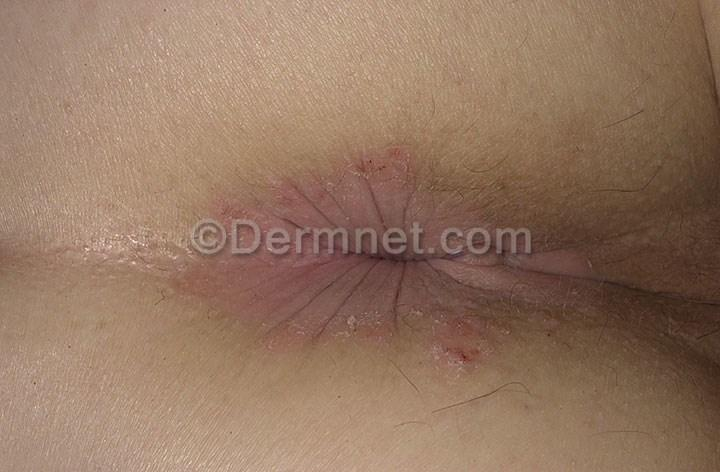Eczema: (361, 265, 499, 411), (201, 111, 358, 221), (193, 255, 357, 345), (363, 150, 501, 227), (512, 265, 604, 367)
